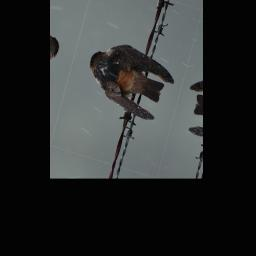Swallow: (79, 35, 181, 126)
